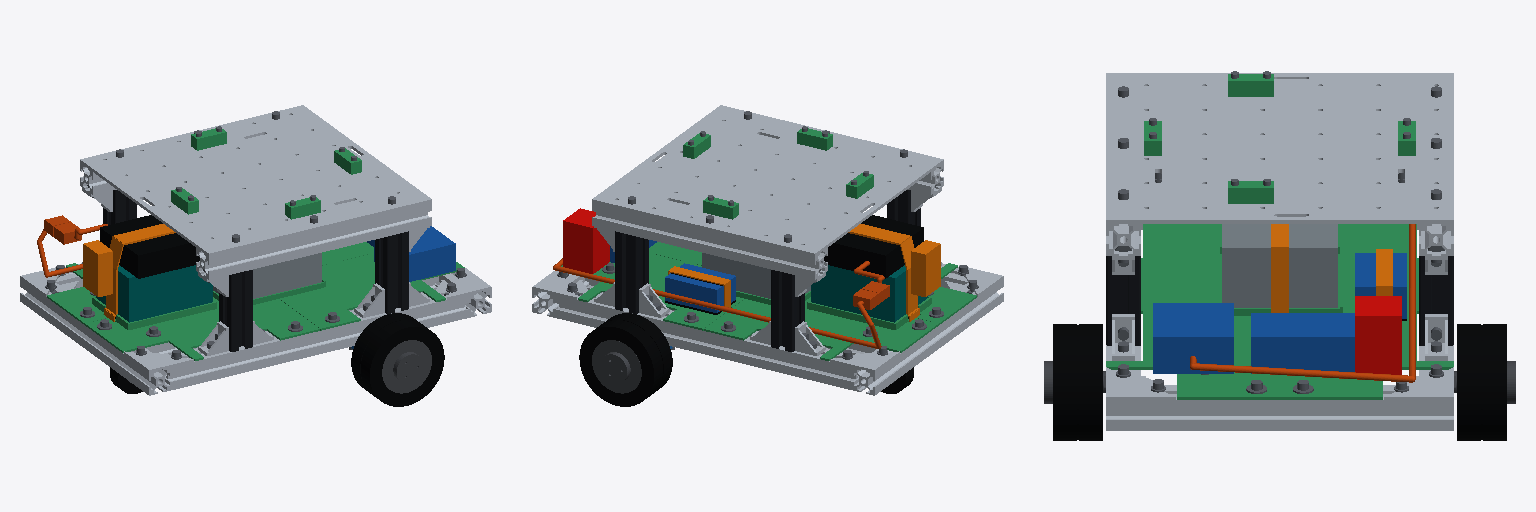
The robot description file, URDF, robot "amr_d62":
<?xml version='1.0' encoding='utf-8'?>
<robot name="amr_d62">
  <!--Generated from D6.2. SI units; +X forward, +Y left, +Z up. Inertias are estimates.-->
  <material name="aluminum">
    <color rgba="0.72 0.75 0.79 1" />
  </material>
  <material name="steel">
    <color rgba="0.38 0.4 0.43 1" />
  </material>
  <material name="pla">
    <color rgba="0.22 0.61 0.38 1" />
  </material>
  <material name="posts">
    <color rgba="0.12 0.13 0.15 1" />
  </material>
  <material name="mounts">
    <color rgba="0.15 0.43 0.69 1" />
  </material>
  <material name="motor">
    <color rgba="0.3 0.31 0.33 1" />
  </material>
  <material name="rubber">
    <color rgba="0.055 0.06 0.065 1" />
  </material>
  <material name="battery">
    <color rgba="0.02 0.4 0.4 1" />
  </material>
  <material name="computer">
    <color rgba="0.5 0.54 0.57 1" />
  </material>
  <material name="electronics">
    <color rgba="0.12 0.37 0.67 1" />
  </material>
  <material name="estop">
    <color rgba="0.85 0.08 0.06 1" />
  </material>
  <material name="belts">
    <color rgba="0.88 0.47 0.07 1" />
  </material>
  <material name="wires">
    <color rgba="0.76 0.3 0.08 1" />
  </material>
  <material name="payload">
    <color rgba="0.66 0.44 0.23 1" />
  </material>
  <link name="left_wheel_link">
    <inertial>
      <origin xyz="2.68715937167e-07 0.000842844210193 -1.43130870062e-06" rpy="0 0 0" />
      <mass value="0.45" />
      <inertia ixx="0.000337824360516" ixy="2.57511255333e-09" ixz="-2.83491628371e-11" iyy="0.000517319399072" iyz="-1.83797301139e-08" izz="0.000337817873043" />
    </inertial>
    <visual name="left_wheel_link_motor">
      <geometry>
        <mesh filename="meshes/left_wheel_link_motor.stl" scale="1 1 1" />
      </geometry>
      <material name="motor" />
    </visual>
    <visual name="left_wheel_link_rubber">
      <geometry>
        <mesh filename="meshes/left_wheel_link_rubber.stl" scale="1 1 1" />
      </geometry>
      <material name="rubber" />
    </visual>
    <collision name="left_wheel_link_rolling_contact">
      <origin xyz="0 0 0" rpy="1.57079632679 0 0" />
      <geometry>
        <cylinder radius="0.05035" length="0.043" />
      </geometry>
    </collision>
  </link>
  <link name="base_link">
    <inertial>
      <origin xyz="-0.0933207799947 -0.000816153615845 0.0796082457592" rpy="0 0 0" />
      <mass value="9.11550857337" />
      <inertia ixx="0.118316850893" ixy="0.00168102371021" ixz="0.00525502301937" iyy="0.174220739427" iyz="0.000159067366086" izz="0.227961329308" />
    </inertial>
    <visual name="base_link_motor">
      <geometry>
        <mesh filename="meshes/base_link_motor.stl" scale="1 1 1" />
      </geometry>
      <material name="motor" />
    </visual>
    <visual name="base_link_steel">
      <geometry>
        <mesh filename="meshes/base_link_steel.stl" scale="1 1 1" />
      </geometry>
      <material name="steel" />
    </visual>
    <visual name="base_link_aluminum">
      <geometry>
        <mesh filename="meshes/base_link_aluminum.stl" scale="1 1 1" />
      </geometry>
      <material name="aluminum" />
    </visual>
    <visual name="base_link_mounts">
      <geometry>
        <mesh filename="meshes/base_link_mounts.stl" scale="1 1 1" />
      </geometry>
      <material name="mounts" />
    </visual>
    <visual name="base_link_pla">
      <geometry>
        <mesh filename="meshes/base_link_pla.stl" scale="1 1 1" />
      </geometry>
      <material name="pla" />
    </visual>
    <visual name="base_link_posts">
      <geometry>
        <mesh filename="meshes/base_link_posts.stl" scale="1 1 1" />
      </geometry>
      <material name="posts" />
    </visual>
    <visual name="base_link_electronics">
      <geometry>
        <mesh filename="meshes/base_link_electronics.stl" scale="1 1 1" />
      </geometry>
      <material name="electronics" />
    </visual>
    <visual name="base_link_estop">
      <geometry>
        <mesh filename="meshes/base_link_estop.stl" scale="1 1 1" />
      </geometry>
      <material name="estop" />
    </visual>
    <visual name="base_link_computer">
      <geometry>
        <mesh filename="meshes/base_link_computer.stl" scale="1 1 1" />
      </geometry>
      <material name="computer" />
    </visual>
    <visual name="base_link_battery">
      <geometry>
        <mesh filename="meshes/base_link_battery.stl" scale="1 1 1" />
      </geometry>
      <material name="battery" />
    </visual>
    <visual name="base_link_rubber">
      <geometry>
        <mesh filename="meshes/base_link_rubber.stl" scale="1 1 1" />
      </geometry>
      <material name="rubber" />
    </visual>
    <visual name="base_link_belts">
      <geometry>
        <mesh filename="meshes/base_link_belts.stl" scale="1 1 1" />
      </geometry>
      <material name="belts" />
    </visual>
    <visual name="base_link_wires">
      <geometry>
        <mesh filename="meshes/base_link_wires.stl" scale="1 1 1" />
      </geometry>
      <material name="wires" />
    </visual>
    <collision name="base_link_Rail400_1">
      <origin xyz="-0.09 -0.135 0.03365" rpy="0 0 0" />
      <geometry>
        <box size="0.4 0.03 0.03" />
      </geometry>
    </collision>
    <collision name="base_link_Rail400_2">
      <origin xyz="-0.09 -0.065 0.03365" rpy="0 0 0" />
      <geometry>
        <box size="0.4 0.03 0.03" />
      </geometry>
    </collision>
    <collision name="base_link_Rail400_3">
      <origin xyz="-0.09 0.065 0.03365" rpy="0 0 0" />
      <geometry>
        <box size="0.4 0.03 0.03" />
      </geometry>
    </collision>
    <collision name="base_link_Rail400_4">
      <origin xyz="-0.09 0.135 0.03365" rpy="0 0 0" />
      <geometry>
        <box size="0.4 0.03 0.03" />
      </geometry>
    </collision>
    <collision name="base_link_Cross300_1">
      <origin xyz="-0.305 0 0.03365" rpy="0 0 0" />
      <geometry>
        <box size="0.03 0.3 0.03" />
      </geometry>
    </collision>
    <collision name="base_link_Cross300_2">
      <origin xyz="0.125 0 0.03365" rpy="0 0 0" />
      <geometry>
        <box size="0.03 0.3 0.03" />
      </geometry>
    </collision>
    <collision name="base_link_CustomMotorMountL">
      <origin xyz="0 0.135 0.00165" rpy="0 0 0" />
      <geometry>
        <box size="0.09 0.03 0.034" />
      </geometry>
    </collision>
    <collision name="base_link_CustomMotorMountR">
      <origin xyz="0 -0.135 0.00165" rpy="0 0 0" />
      <geometry>
        <box size="0.09 0.03 0.034" />
      </geometry>
    </collision>
    <collision name="base_link_CasterAdapter">
      <origin xyz="-0.24 0 0.01665" rpy="0 0 0" />
      <geometry>
        <box size="0.08 0.17 0.004" />
      </geometry>
    </collision>
    <collision name="base_link_CasterTop">
      <origin xyz="-0.24 0 0.0134" rpy="0 0 0" />
      <geometry>
        <box size="0.059 0.047 0.0025" />
      </geometry>
    </collision>
    <collision name="base_link_Reserved_Protection">
      <origin xyz="0.08 -0.075 0.07915" rpy="0 0 0" />
      <geometry>
        <box size="0.07 0.07 0.035" />
      </geometry>
    </collision>
    <collision name="base_link_Reserved_ClampAndPower">
      <origin xyz="0.09 0.02 0.07915" rpy="0 0 0" />
      <geometry>
        <box size="0.05 0.09 0.035" />
      </geometry>
    </collision>
    <collision name="base_link_Reserved_EmergencyStop">
      <origin xyz="0.105 0.085 0.09165" rpy="0 0 0" />
      <geometry>
        <box size="0.04 0.04 0.06" />
      </geometry>
    </collision>
    <collision name="base_link_Reserved_SupervisorRS485">
      <origin xyz="-0.05 0.0875 0.06865" rpy="0 0 0" />
      <geometry>
        <box size="0.07 0.045 0.03" />
      </geometry>
    </collision>
    <collision name="base_link_Reserved_Computer">
      <origin xyz="-0.09 0 0.08365" rpy="0 0 0" />
      <geometry>
        <box size="0.12 0.1 0.06" />
      </geometry>
    </collision>
    <collision name="base_link_AluminumDeckD3">
      <origin xyz="-0.09 0 0.18065" rpy="0 0 0" />
      <geometry>
        <box size="0.3 0.3 0.004" />
      </geometry>
    </collision>
    <collision name="base_link_PrintedStopXN">
      <origin xyz="-0.1995 -0.025 0.19015" rpy="0 0 0" />
      <geometry>
        <box size="0.015 0.04 0.015" />
      </geometry>
    </collision>
    <collision name="base_link_PrintedStopXP">
      <origin xyz="0.0195 -0.025 0.19015" rpy="0 0 0" />
      <geometry>
        <box size="0.015 0.04 0.015" />
      </geometry>
    </collision>
    <collision name="base_link_PrintedStopYN">
      <origin xyz="-0.09 -0.1095 0.19015" rpy="0 0 0" />
      <geometry>
        <box size="0.04 0.015 0.015" />
      </geometry>
    </collision>
    <collision name="base_link_PrintedStopYP">
      <origin xyz="-0.09 0.1095 0.19015" rpy="0 0 0" />
      <geometry>
        <box size="0.04 0.015 0.015" />
      </geometry>
    </collision>
    <collision name="base_link_Upright3030_0">
      <origin xyz="-0.195 -0.135 0.09865" rpy="0 0 0" />
      <geometry>
        <box size="0.03 0.03 0.1" />
      </geometry>
    </collision>
    <collision name="base_link_Upright3030_1">
      <origin xyz="-0.195 0.135 0.09865" rpy="0 0 0" />
      <geometry>
        <box size="0.03 0.03 0.1" />
      </geometry>
    </collision>
    <collision name="base_link_Upright3030_2">
      <origin xyz="0.015 -0.135 0.09865" rpy="0 0 0" />
      <geometry>
        <box size="0.03 0.03 0.1" />
      </geometry>
    </collision>
    <collision name="base_link_Upright3030_3">
      <origin xyz="0.015 0.135 0.09865" rpy="0 0 0" />
      <geometry>
        <box size="0.03 0.03 0.1" />
      </geometry>
    </collision>
    <collision name="base_link_UpperRail3030_0">
      <origin xyz="-0.09 -0.135 0.16365" rpy="0 0 0" />
      <geometry>
        <box size="0.3 0.03 0.03" />
      </geometry>
    </collision>
    <collision name="base_link_UpperRail3030_1">
      <origin xyz="-0.09 0.135 0.16365" rpy="0 0 0" />
      <geometry>
        <box size="0.3 0.03 0.03" />
      </geometry>
    </collision>
    <collision name="base_link_seam_beam_0">
      <origin xyz="-0.09 0 0.0449" rpy="0 0 0" />
      <geometry>
        <box size="0.064 0.1 0.0025" />
      </geometry>
    </collision>
    <collision name="base_link_seam_beam_1">
      <origin xyz="-0.09 -0.02925 0.0474" rpy="0 0 0" />
      <geometry>
        <box size="0.064 0.0415 0.0025" />
      </geometry>
    </collision>
    <collision name="base_link_seam_beam_2">
      <origin xyz="-0.09 0.02925 0.0474" rpy="0 0 0" />
      <geometry>
        <box size="0.064 0.0415 0.0025" />
      </geometry>
    </collision>
    <collision name="base_link_seam_beam_3">
      <origin xyz="-0.1204 0 0.03615" rpy="0 0 0" />
      <geometry>
        <box size="0.0032 0.1 0.015" />
      </geometry>
    </collision>
    <collision name="base_link_seam_beam_4">
      <origin xyz="-0.0596 0 0.03615" rpy="0 0 0" />
      <geometry>
        <box size="0.0032 0.1 0.015" />
      </geometry>
    </collision>
    <collision name="base_link_seam_beam_5">
      <origin xyz="-0.09 -0.0484 0.03365" rpy="0 0 0" />
      <geometry>
        <box size="0.064 0.0032 0.02" />
      </geometry>
    </collision>
    <collision name="base_link_seam_beam_6">
      <origin xyz="-0.09 0.0484 0.03365" rpy="0 0 0" />
      <geometry>
        <box size="0.064 0.0032 0.02" />
      </geometry>
    </collision>
    <collision name="base_link_FloorPLA_0_0">
      <origin xyz="-0.2051 -0.0751 0.04985" rpy="0 0 0" />
      <geometry>
        <box size="0.2298 0.1498 0.0024" />
      </geometry>
    </collision>
    <collision name="base_link_FloorPLA_0_0_rib">
      <origin xyz="-0.206 -0.0235 0.04115" rpy="0 0 0" />
      <geometry>
        <box size="0.168 0.0174 0.015" />
      </geometry>
    </collision>
    <collision name="base_link_FloorPLA_0_1">
      <origin xyz="-0.2051 0.0751 0.04985" rpy="0 0 0" />
      <geometry>
        <box size="0.2298 0.1498 0.0024" />
      </geometry>
    </collision>
    <collision name="base_link_FloorPLA_0_1_rib">
      <origin xyz="-0.206 0.0235 0.04115" rpy="0 0 0" />
      <geometry>
        <box size="0.168 0.0174 0.015" />
      </geometry>
    </collision>
    <collision name="base_link_FloorPLA_1_0">
      <origin xyz="0.0251 -0.0751 0.04985" rpy="0 0 0" />
      <geometry>
        <box size="0.2298 0.1498 0.0024" />
      </geometry>
    </collision>
    <collision name="base_link_FloorPLA_1_0_rib">
      <origin xyz="0.026 -0.0235 0.04115" rpy="0 0 0" />
      <geometry>
        <box size="0.168 0.0174 0.015" />
      </geometry>
    </collision>
    <collision name="base_link_FloorPLA_1_1">
      <origin xyz="0.0251 0.0751 0.04985" rpy="0 0 0" />
      <geometry>
        <box size="0.2298 0.1498 0.0024" />
      </geometry>
    </collision>
    <collision name="base_link_FloorPLA_1_1_rib">
      <origin xyz="0.026 0.0235 0.04115" rpy="0 0 0" />
      <geometry>
        <box size="0.168 0.0174 0.015" />
      </geometry>
    </collision>
    <collision name="base_link_BatteryBL1860B">
      <origin xyz="-0.2265 0 0.08465" rpy="0 0 0" />
      <geometry>
        <box size="0.113 0.075 0.062" />
      </geometry>
    </collision>
    <collision name="base_link_BatteryAdapter03">
      <origin xyz="-0.2265 0 0.13065" rpy="0 0 0" />
      <geometry>
        <box size="0.095 0.09 0.03" />
      </geometry>
    </collision>
    <collision name="base_link_BatteryBuckleEnvelope">
      <origin xyz="-0.302 0 0.11715" rpy="0 0 0" />
      <geometry>
        <box size="0.02 0.035 0.055" />
      </geometry>
    </collision>
  </link>
  <link name="right_wheel_link">
    <inertial>
      <origin xyz="-2.68715937167e-07 -0.000842844210193 -1.43130870061e-06" rpy="0 0 0" />
      <mass value="0.45" />
      <inertia ixx="0.000337824360516" ixy="2.57511255324e-09" ixz="2.83491629754e-11" iyy="0.000517319399072" iyz="1.83797301136e-08" izz="0.000337817873043" />
    </inertial>
    <visual name="right_wheel_link_motor">
      <geometry>
        <mesh filename="meshes/right_wheel_link_motor.stl" scale="1 1 1" />
      </geometry>
      <material name="motor" />
    </visual>
    <visual name="right_wheel_link_rubber">
      <geometry>
        <mesh filename="meshes/right_wheel_link_rubber.stl" scale="1 1 1" />
      </geometry>
      <material name="rubber" />
    </visual>
    <collision name="right_wheel_link_rolling_contact">
      <origin xyz="0 0 0" rpy="1.57079632679 0 0" />
      <geometry>
        <cylinder radius="0.05035" length="0.043" />
      </geometry>
    </collision>
  </link>
  <link name="caster_swivel_link">
    <inertial>
      <origin xyz="-0.00208368833284 3.45547710101e-19 -0.0060383207606" rpy="0 0 0" />
      <mass value="0.0887160418696" />
      <inertia ixx="2.00832544816e-05" ixy="4.85850705141e-22" ixz="-4.29660604946e-06" iyy="1.90849352283e-05" iyz="-2.53397249247e-22" izz="1.76394659271e-05" />
    </inertial>
    <visual name="caster_swivel_link_steel">
      <geometry>
        <mesh filename="meshes/caster_swivel_link_steel.stl" scale="1 1 1" />
      </geometry>
      <material name="steel" />
    </visual>
    <collision name="caster_swivel_link_swivel_race">
      <origin xyz="0 0 0" rpy="0 0 0" />
      <geometry>
        <cylinder radius="0.019" length="0.009" />
      </geometry>
    </collision>
    <collision name="caster_swivel_link_fork_0">
      <origin xyz="-0.003 -0.0125 -0.01875" rpy="0 0 0" />
      <geometry>
        <box size="0.036 0.003 0.0285" />
      </geometry>
    </collision>
    <collision name="caster_swivel_link_fork_1">
      <origin xyz="-0.003 0.0125 -0.01875" rpy="0 0 0" />
      <geometry>
        <box size="0.036 0.003 0.0285" />
      </geometry>
    </collision>
    <collision name="caster_swivel_link_fork_2">
      <origin xyz="-0.016 0 -0.033" rpy="0 0 0" />
      <geometry>
        <box size="0.006 0.032 0.006" />
      </geometry>
    </collision>
  </link>
  <link name="caster_wheel_link">
    <inertial>
      <origin xyz="2.84217094304e-17 2.29472925463e-19 0" rpy="0 0 0" />
      <mass value="0.035507350075" />
      <inertia ixx="6.57068391835e-06" ixy="2.3584551378e-23" ixz="-1.75899594661e-20" iyy="1.0774211165e-05" iyz="-2.27653595497e-22" izz="6.57068391835e-06" />
    </inertial>
    <visual name="caster_wheel_link_rubber">
      <geometry>
        <mesh filename="meshes/caster_wheel_link_rubber.stl" scale="1 1 1" />
      </geometry>
      <material name="rubber" />
    </visual>
    <visual name="caster_wheel_link_steel">
      <geometry>
        <mesh filename="meshes/caster_wheel_link_steel.stl" scale="1 1 1" />
      </geometry>
      <material name="steel" />
    </visual>
    <collision name="caster_wheel_link_rolling_contact">
      <origin xyz="0 0 0" rpy="1.57079632679 0 0" />
      <geometry>
        <cylinder radius="0.025" length="0.02" />
      </geometry>
    </collision>
  </link>
  <joint name="left_wheel_joint" type="continuous">
    <parent link="base_link" />
    <child link="left_wheel_link" />
    <origin xyz="0 0.1745 0" rpy="0 0 0" />
    <axis xyz="0 1 0" />
    <limit effort="0.96" velocity="12.0427718388" />
    <dynamics damping="0" friction="0" />
  </joint>
  <joint name="right_wheel_joint" type="continuous">
    <parent link="base_link" />
    <child link="right_wheel_link" />
    <origin xyz="0 -0.1745 0" rpy="0 0 0" />
    <axis xyz="0 1 0" />
    <limit effort="0.96" velocity="12.0427718388" />
    <dynamics damping="0" friction="0" />
  </joint>
  <joint name="caster_swivel_joint" type="continuous">
    <parent link="base_link" />
    <child link="caster_swivel_link" />
    <origin xyz="-0.24 0 0.00765" rpy="0 0 0" />
    <axis xyz="0 0 1" />
    <limit effort="0" velocity="30" />
    <dynamics damping="0" friction="0" />
  </joint>
  <joint name="caster_wheel_joint" type="continuous">
    <parent link="caster_swivel_link" />
    <child link="caster_wheel_link" />
    <origin xyz="-0.016 0 -0.033" rpy="0 0 0" />
    <axis xyz="0 1 0" />
    <limit effort="0" velocity="30" />
    <dynamics damping="0" friction="0" />
  </joint>
</robot>

--- Facts derived from the render (not from the file) ---
Views: 3 orthographic renders of the robot side by side, from view 1: azimuth 30°, elevation 25°; view 2: azimuth 150°, elevation 25°; view 3: azimuth 270°, elevation 25°.
Robot: amr_d62 — 5 links, 4 joints (4 continuous); root link base_link; default pose: all joints at 0.
Visible links, largest first — view 1: base_link, right_wheel_link; view 2: base_link, left_wheel_link; view 3: base_link, left_wheel_link, right_wheel_link.
Link boxes in pixels (x1=…): base_link: x1=20, y1=105, x2=491, y2=395; right_wheel_link: x1=351, y1=313, x2=444, y2=406; base_link: x1=532, y1=105, x2=1003, y2=395; left_wheel_link: x1=579, y1=313, x2=672, y2=406; base_link: x1=1103, y1=71, x2=1456, y2=430; left_wheel_link: x1=1457, y1=324, x2=1515, y2=440; right_wheel_link: x1=1044, y1=324, x2=1102, y2=440.
Bounding box of the posed robot: 0.46 × 0.4066 × 0.252 m (x, y, z).
20 mesh visuals loaded from 20 distinct referenced files (20 binary STL).
